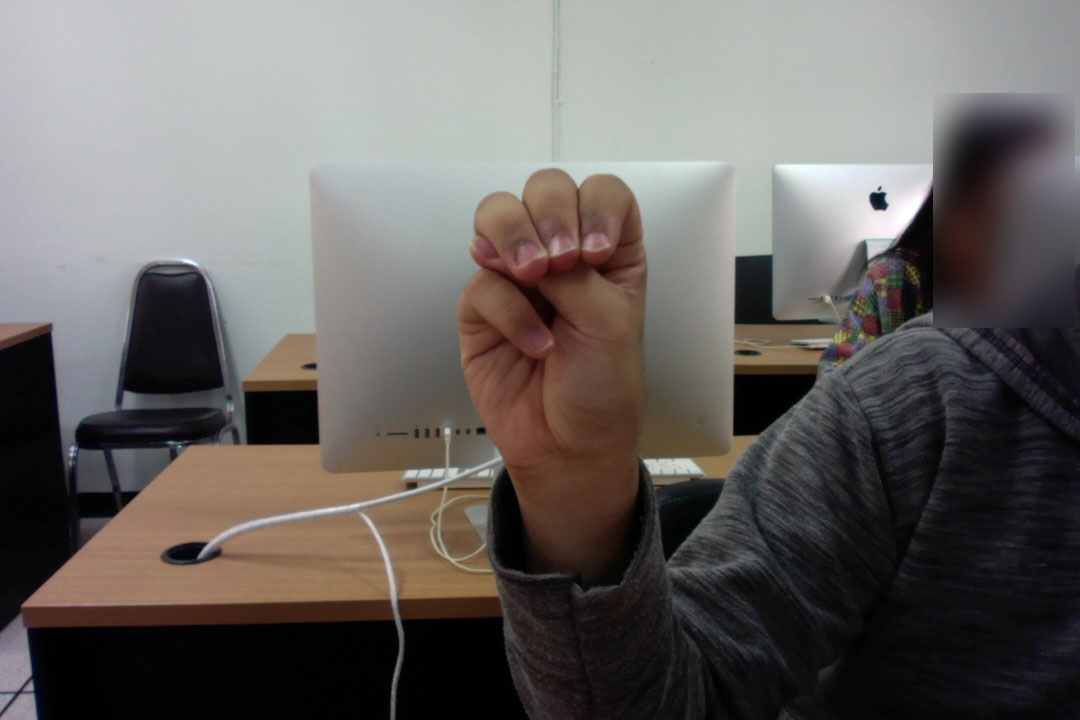mor: (448, 164, 660, 476)
